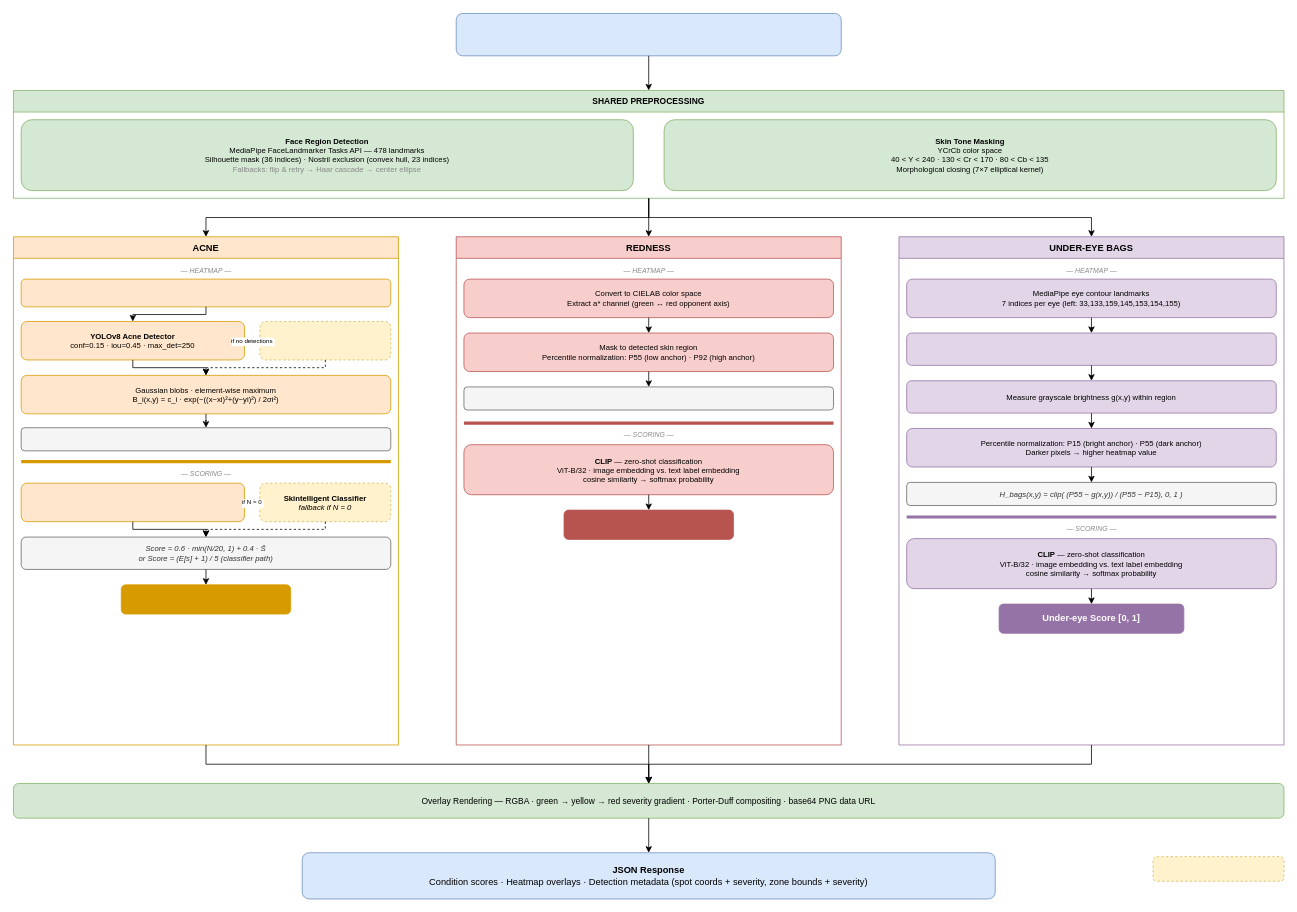
Image size: 1297x912. Some labels were removed from this diagram. The shapes that lost their labels are listed below. From the top down, each one's centre as x and y in pixels, then its label:
At [648,34]: "3 Selfie Photos Front · Left · Right".
At [205,292]: "Crop image to face bounding box".
At [325,340]: "HSV Blemish Detector fallback if no detections".
At [1091,348]: "Shift contours downward → define under-eyelid polygon regions".
At [648,398]: "H_redness(x,y) = clip( (a*(x,y) − P55) / (P92 − P55), 0, 1 )".
At [205,439]: "H_acne(x,y) = max_i B_i(x,y)".
At [132,502]: "HSV blemish count N + mean severity S̄ (per-pixel darkness)".
At [648,524]: "Redness Score [0, 1]".
At [206,599]: "Acne Score [0, 1]".
At [1218,868]: "Dashed border = fallback path".
